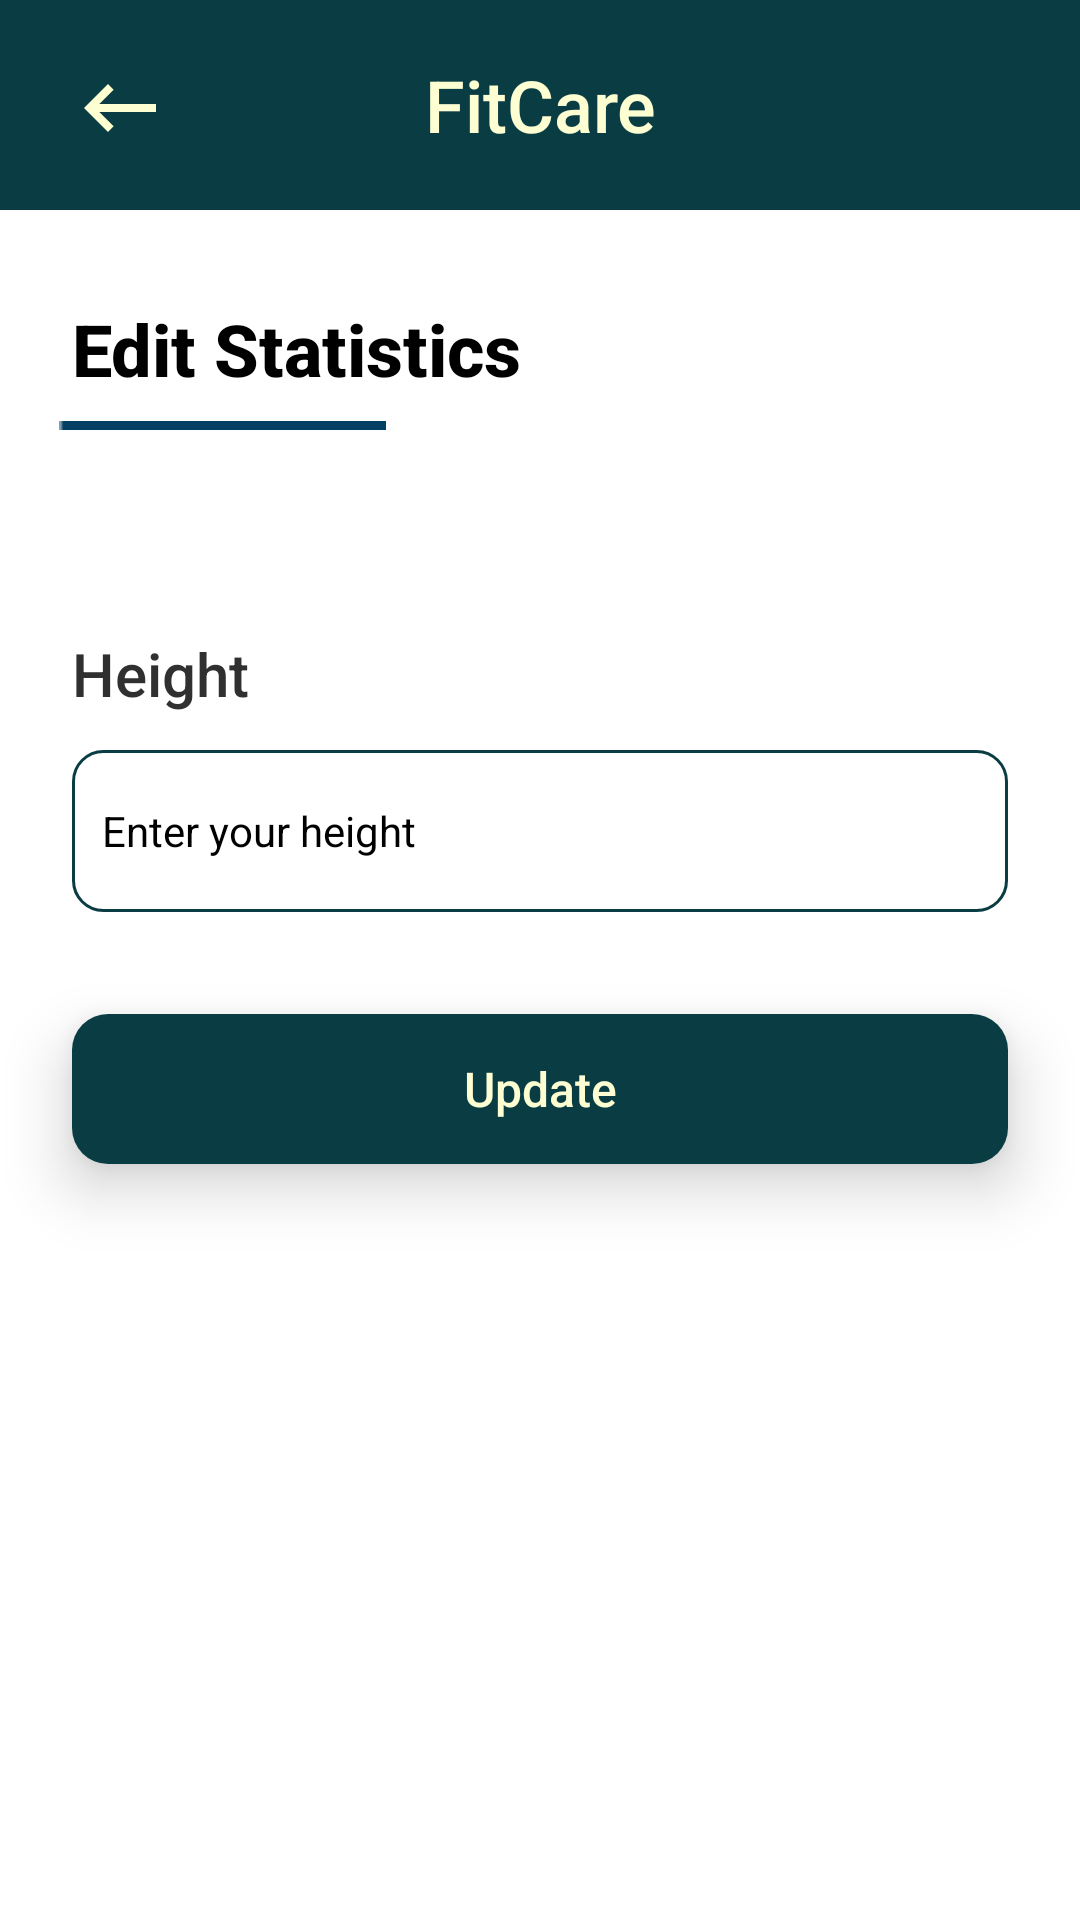

Screen size 1080×1920. Icon name, then its box in pixels as bbox(x1, y1, x2, y2):
back: bbox(84, 84, 156, 132)
